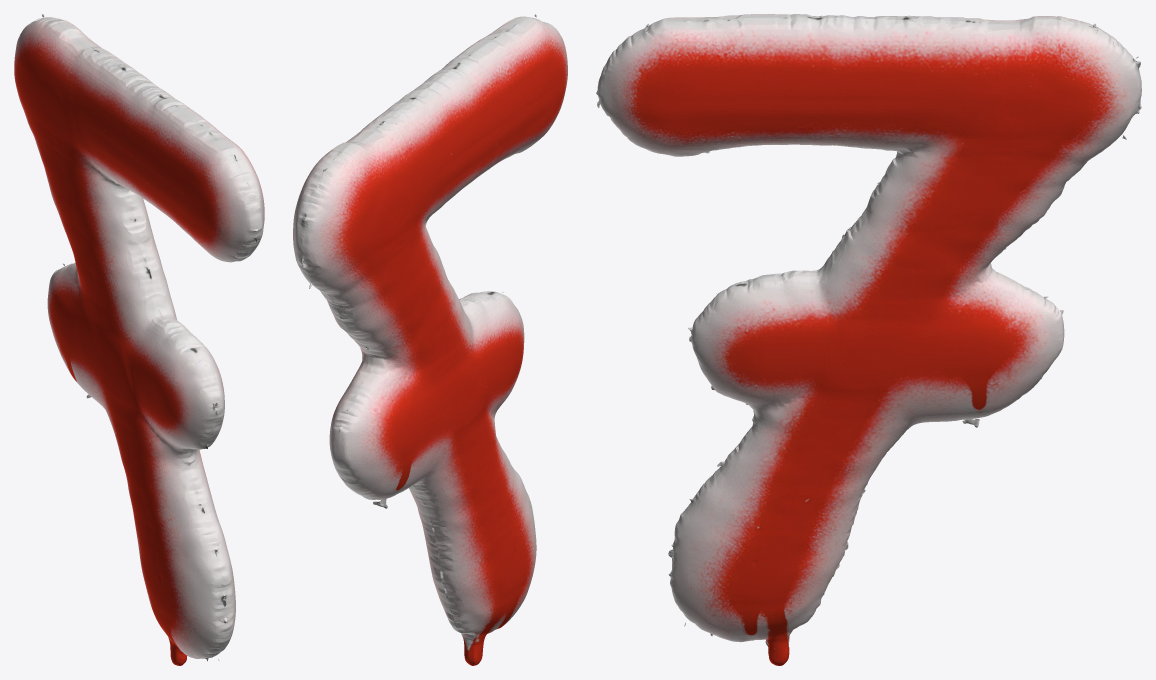
Rendered from tripo_convert_0f74a74c-848a-469d-9c37-23bca0f0c902.obj.
3 views of the same model, side by side, from view 1: azimuth 30°, elevation 25°; view 2: azimuth 150°, elevation 25°; view 3: azimuth 270°, elevation 25° (orthographic). The views are drawn at different scales.
Parts seen in each view (by area): view 1: tripo_node_0f74a74c-848a-469d-9c37-23bca0f0c902; view 2: tripo_node_0f74a74c-848a-469d-9c37-23bca0f0c902; view 3: tripo_node_0f74a74c-848a-469d-9c37-23bca0f0c902.
Part boxes in pixels (left/top/right/bottom): tripo_node_0f74a74c-848a-469d-9c37-23bca0f0c902: left=14, top=14, right=264, bottom=665; tripo_node_0f74a74c-848a-469d-9c37-23bca0f0c902: left=293, top=14, right=567, bottom=665; tripo_node_0f74a74c-848a-469d-9c37-23bca0f0c902: left=596, top=14, right=1141, bottom=665.
Bounding box in the file's own units: 0.1118 × 1 × 0.7632.
1 material, 1 textured.
